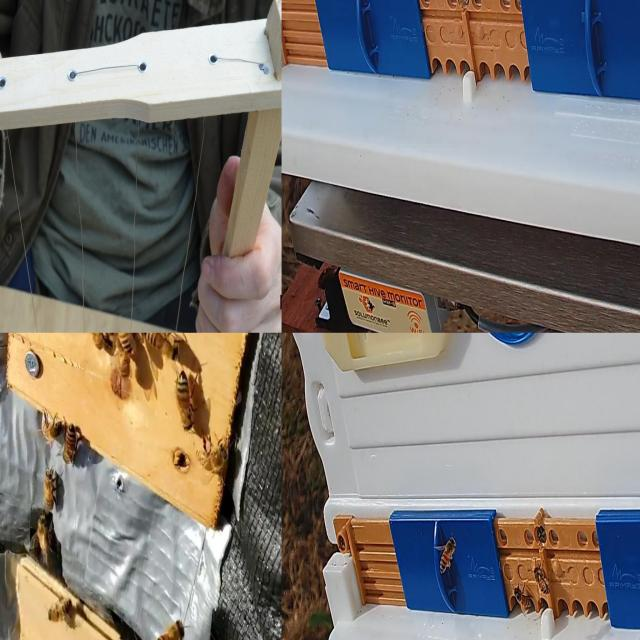honeybee: (173, 374, 199, 429), (30, 510, 53, 560), (194, 443, 227, 476), (433, 536, 458, 568), (41, 414, 70, 440), (512, 586, 534, 619), (61, 422, 77, 463), (156, 619, 187, 640), (533, 563, 551, 599), (46, 599, 72, 623), (44, 472, 57, 512), (120, 332, 140, 357), (168, 328, 184, 352), (95, 331, 114, 350), (119, 347, 130, 378), (145, 334, 164, 350)
